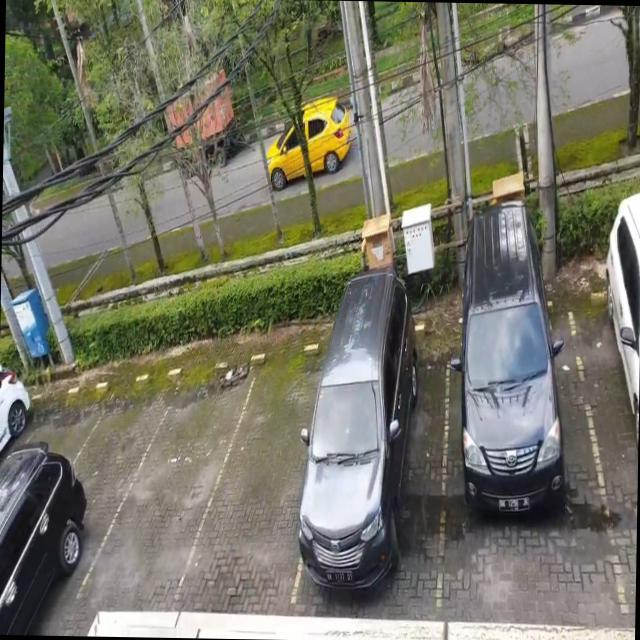empty: (203, 351, 304, 614), (118, 361, 217, 606), (67, 365, 142, 573)
occupied: (439, 291, 596, 592), (293, 319, 449, 609)
